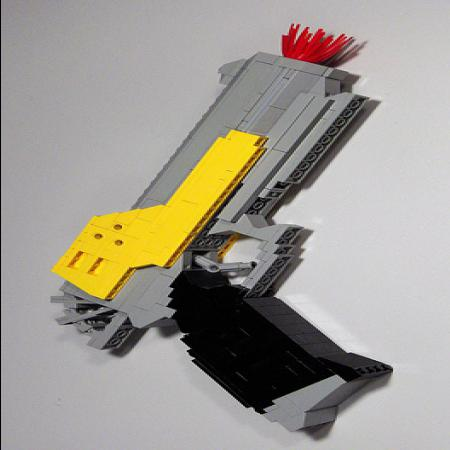Pistol: (39, 26, 402, 431)
